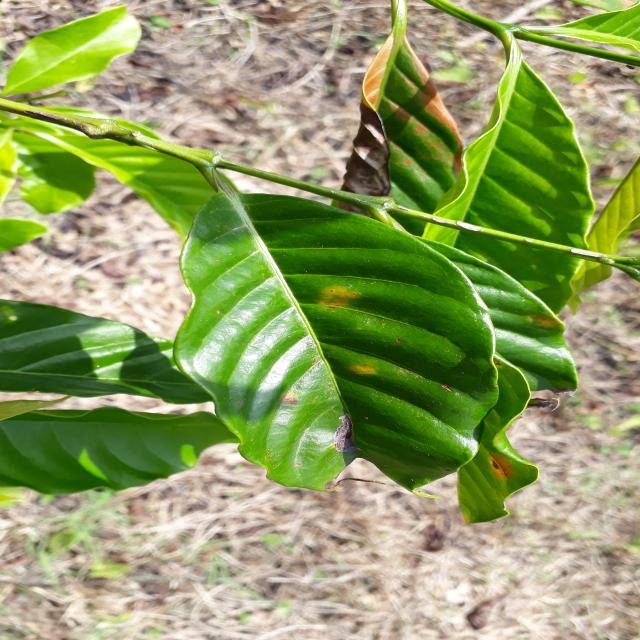Enfermedad-Roya: (176, 158, 536, 523)
